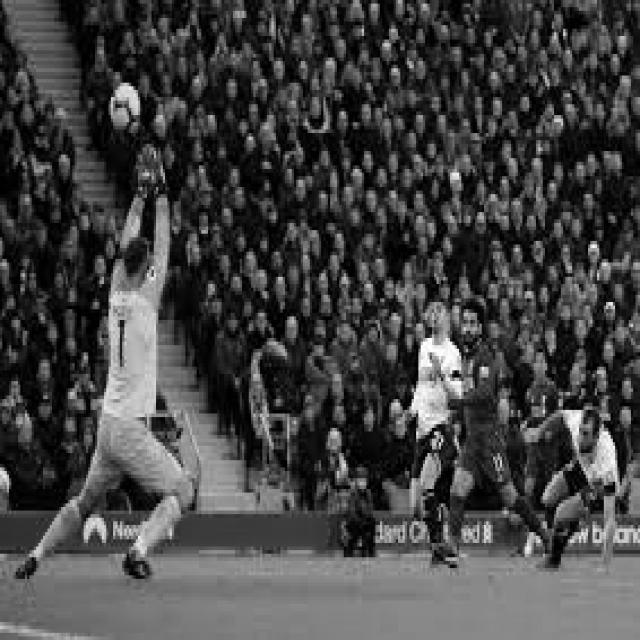football: (108, 77, 147, 136)
